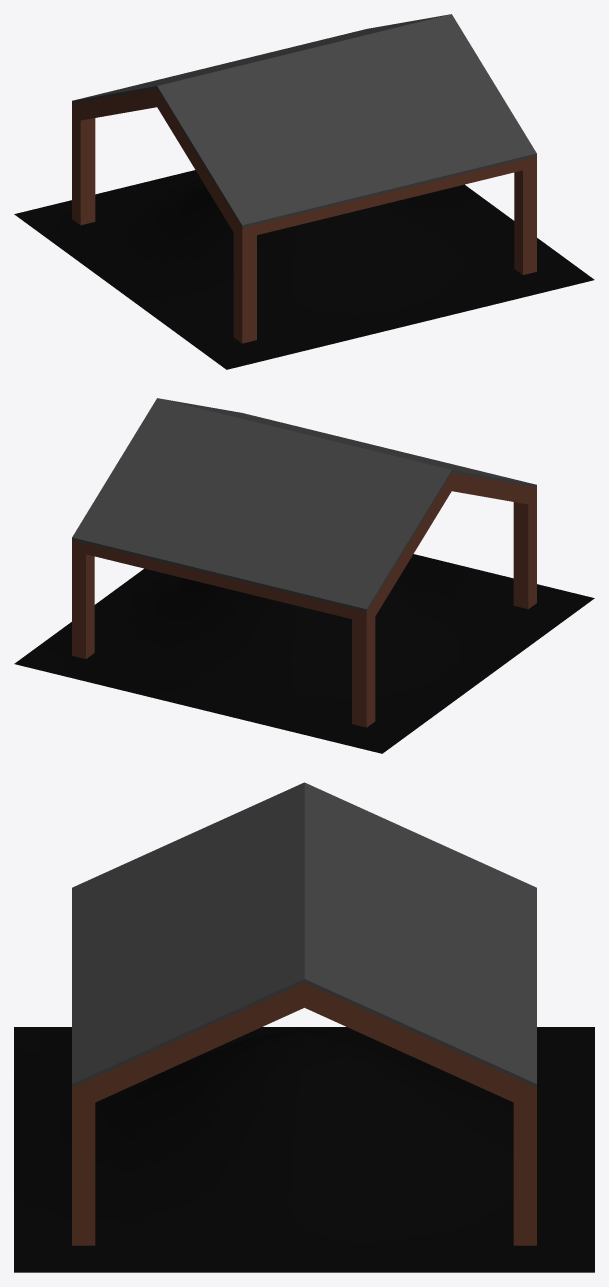
Rendered from factory_storage_02.fbx.
3 views of the same model, one above another, from view 1: azimuth 30°, elevation 25°; view 2: azimuth 150°, elevation 25°; view 3: azimuth 270°, elevation 25° (orthographic). The views are drawn at different scales.
Visible parts, largest first — view 1: storage_02; view 2: storage_02; view 3: storage_02.
Part boxes in pixels (bbox=[...]): storage_02: bbox=[14, 14, 594, 369]; storage_02: bbox=[14, 398, 594, 753]; storage_02: bbox=[14, 782, 594, 1272].
Size of the model in its own units: 1000 by 511 by 1000.
